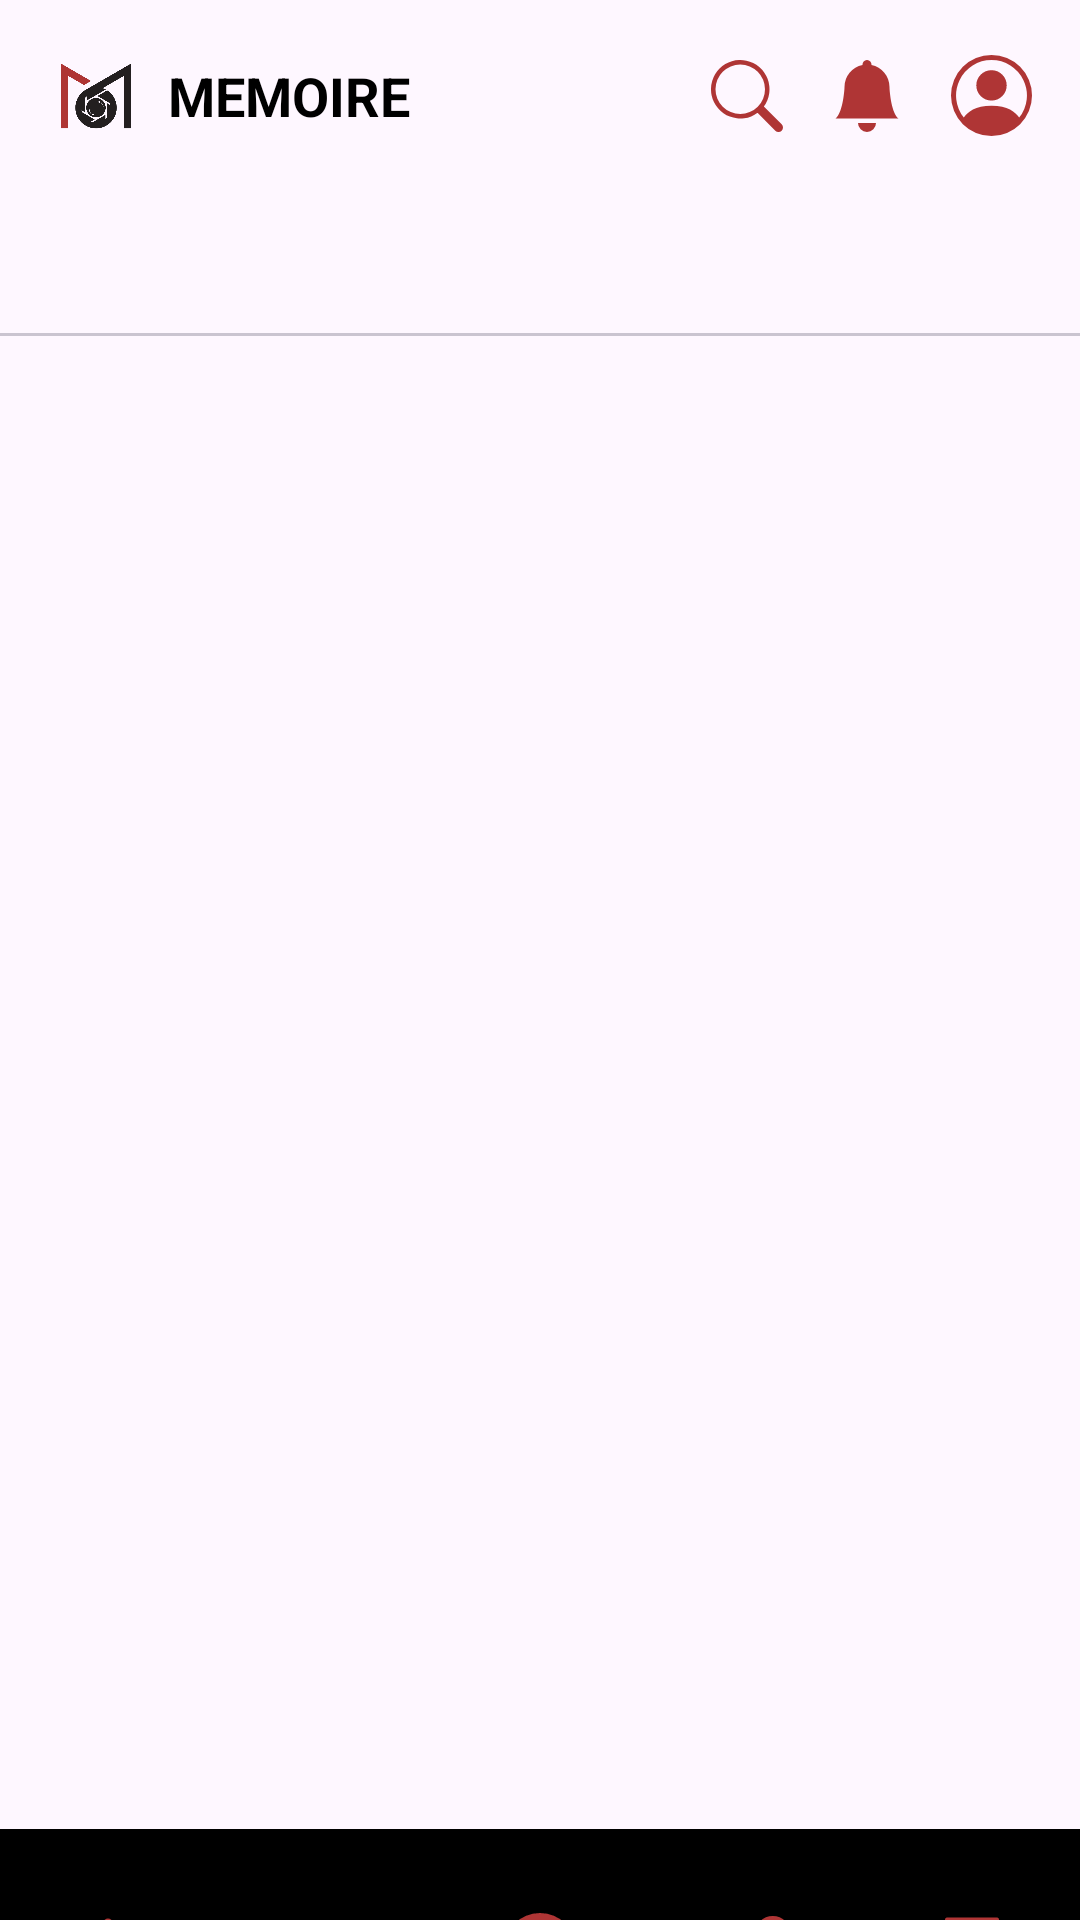

Icon bounding boxes for this 1080 x 1920 phone screenshot, format Rect(x1, y1, x2, y2):
Notifications: Rect(836, 60, 898, 132)
Search: Rect(711, 60, 783, 132)
